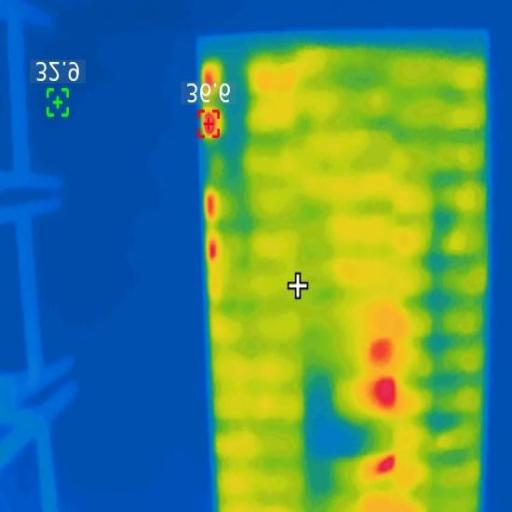hotspot: (374, 374, 400, 407), (372, 450, 398, 479), (205, 234, 224, 266), (369, 341, 393, 363), (200, 112, 219, 136), (205, 192, 218, 218), (204, 67, 214, 88)
